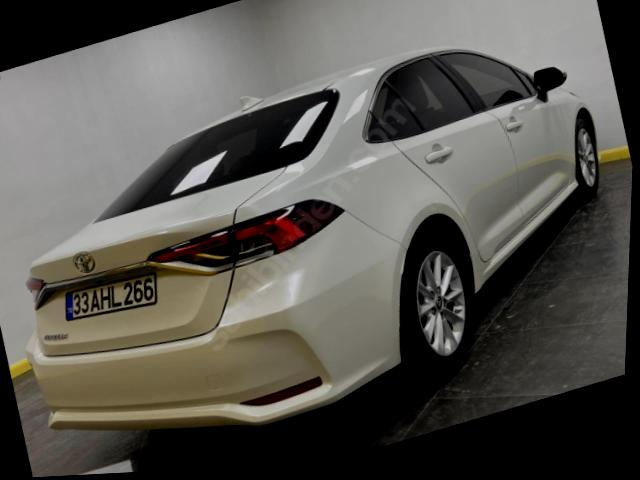plaka: (65, 272, 156, 321)
